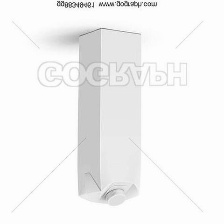carton: (71, 24, 148, 209)
